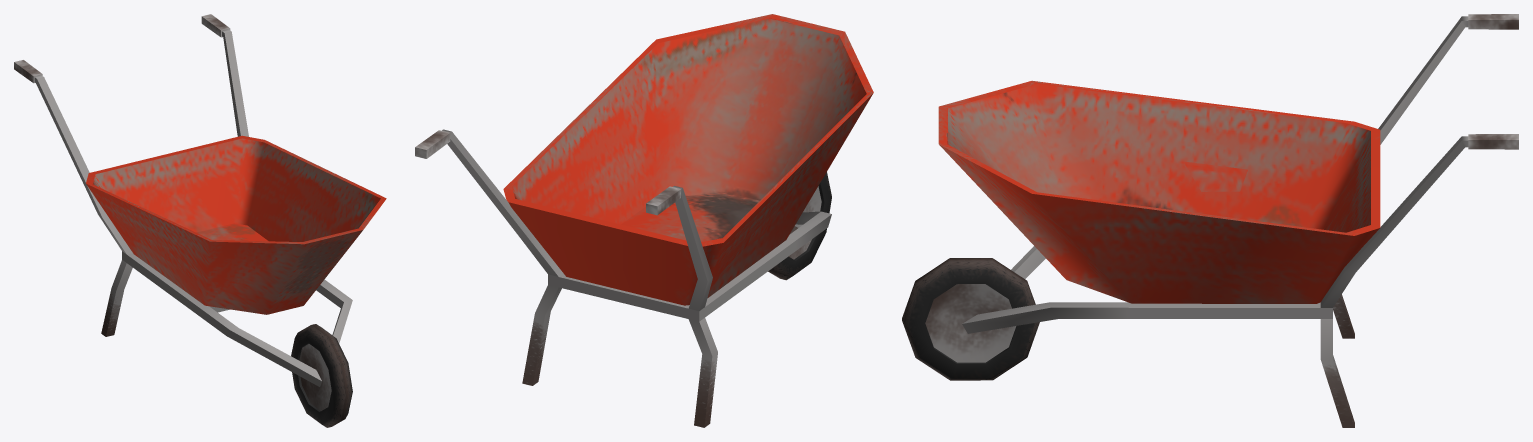
The model's file is wheelbarrow.fbx.
The picture shows the model from 3 angles, left to right: view 1: azimuth 30°, elevation 25°; view 2: azimuth 150°, elevation 25°; view 3: azimuth 270°, elevation 25°; orthographic projection. The views are drawn at different scales.
Parts seen in each view (by area): view 1: wheelbarrow; view 2: wheelbarrow; view 3: wheelbarrow.
Part boxes in pixels (bbox=[...]): wheelbarrow: bbox=[14, 14, 386, 427]; wheelbarrow: bbox=[415, 14, 873, 427]; wheelbarrow: bbox=[902, 14, 1518, 427].
Bounding box in the file's own units: 1.1 × 1.24 × 2.28.
